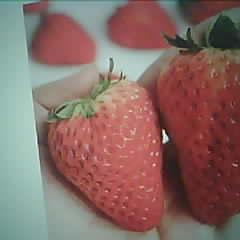straw-ripe: (48, 82, 163, 231), (161, 50, 240, 224)
